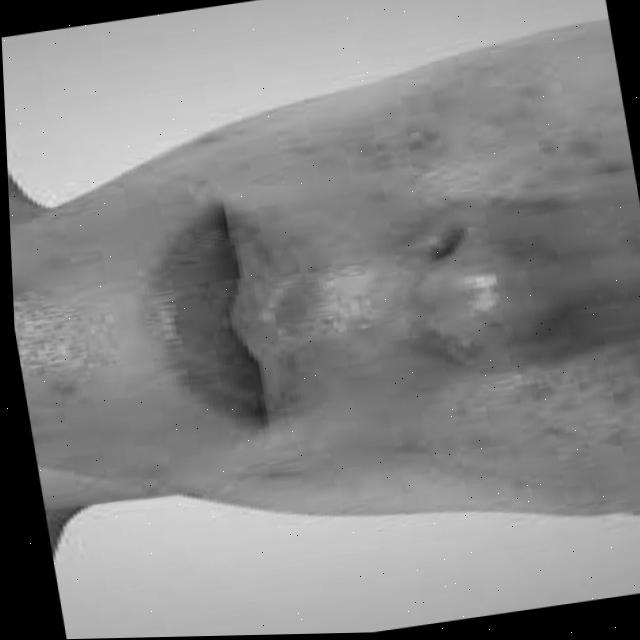Rosacea: (311, 43, 637, 223), (401, 350, 640, 534), (433, 182, 640, 381), (11, 248, 107, 449)
